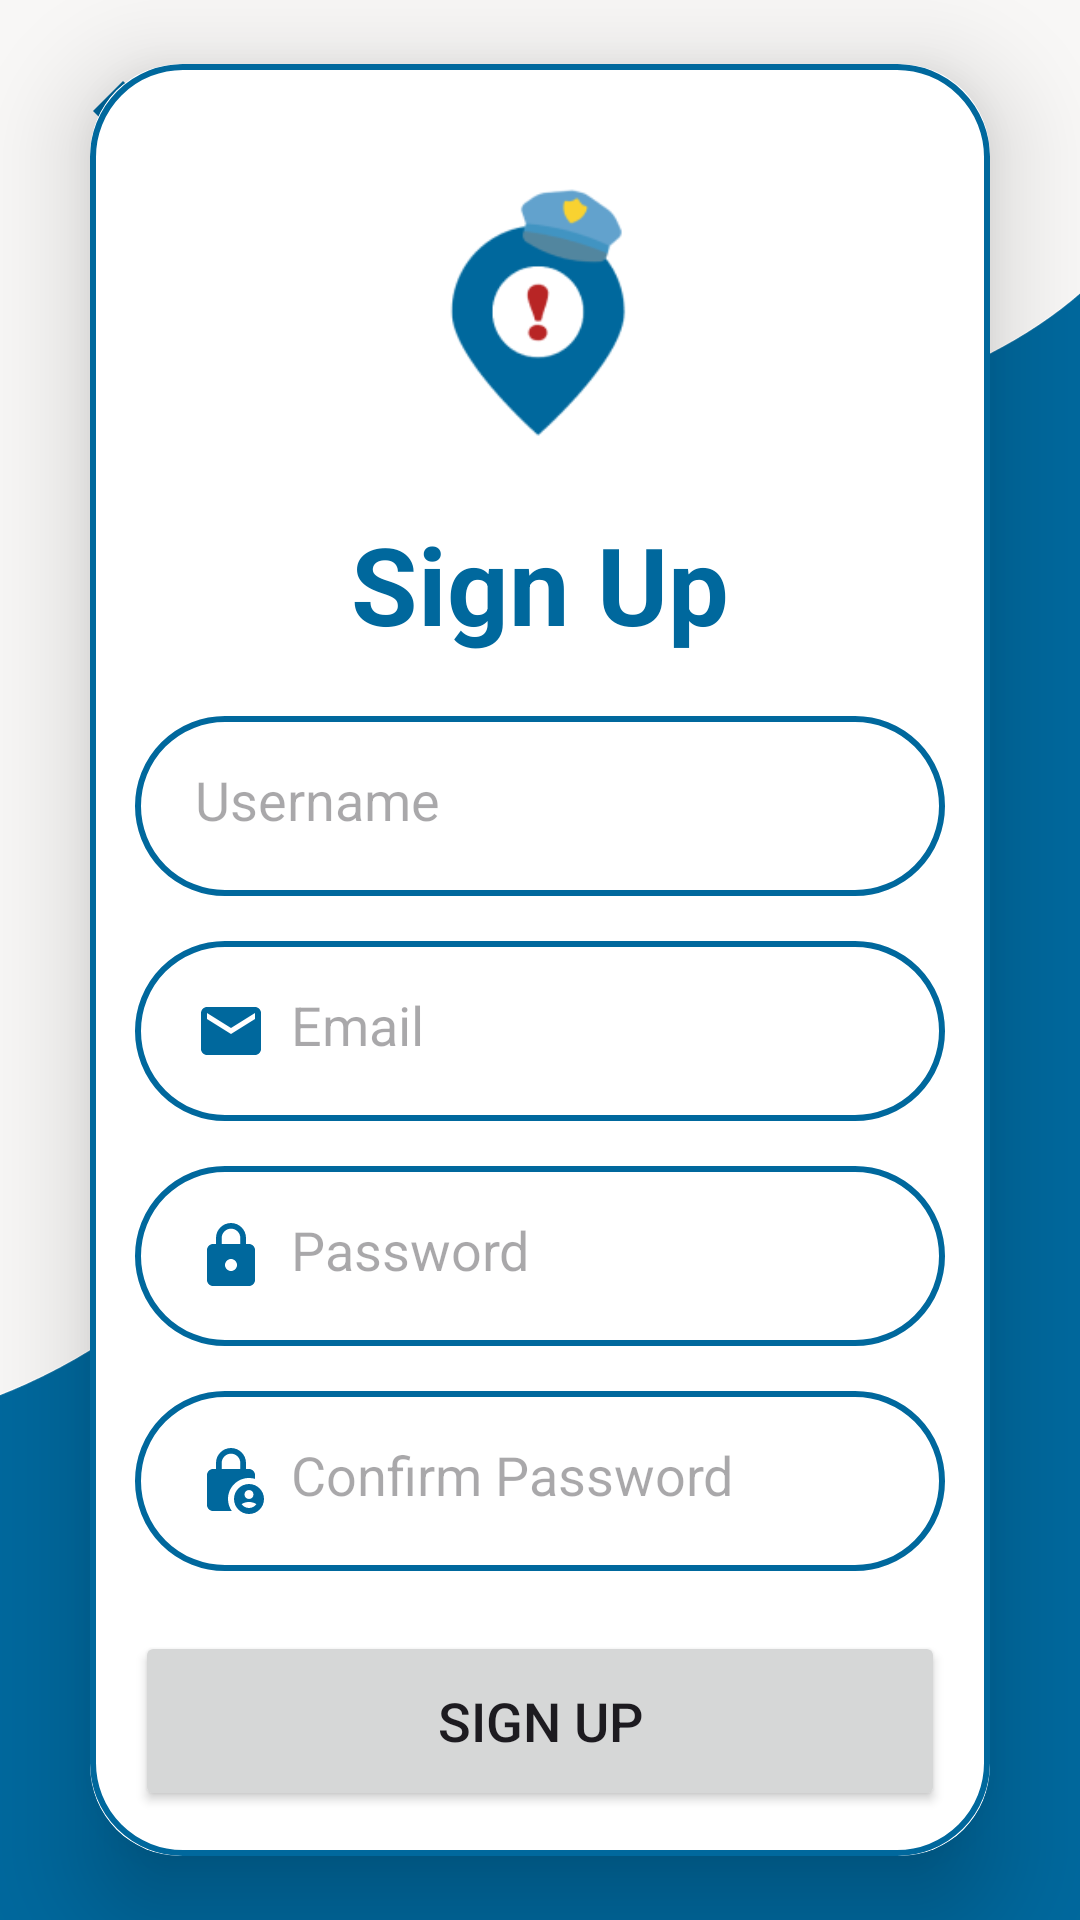

Named icons in this screenshot (1080 × 1920) and their centers, (x,y):
safe guard: (538,312)
